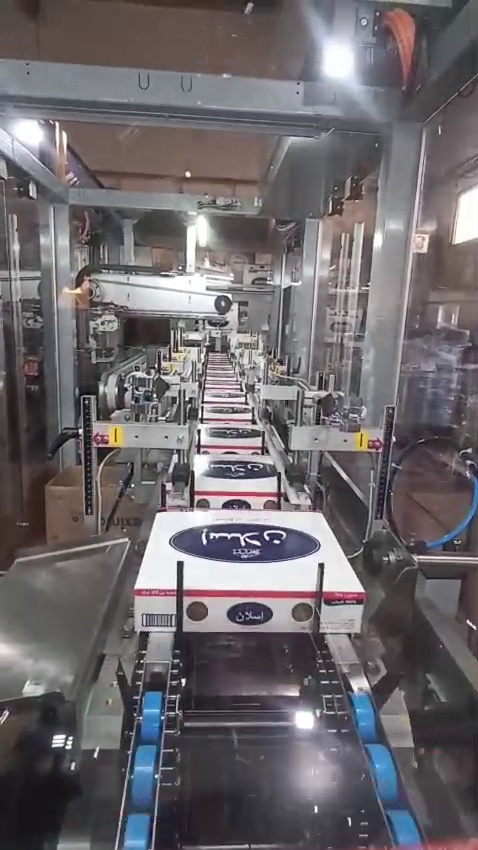savon: (36, 0, 208, 62), (40, 468, 84, 548), (114, 144, 172, 168), (100, 461, 120, 500), (0, 722, 22, 754), (106, 423, 125, 452), (353, 427, 371, 454), (69, 283, 85, 304), (209, 180, 230, 190)
